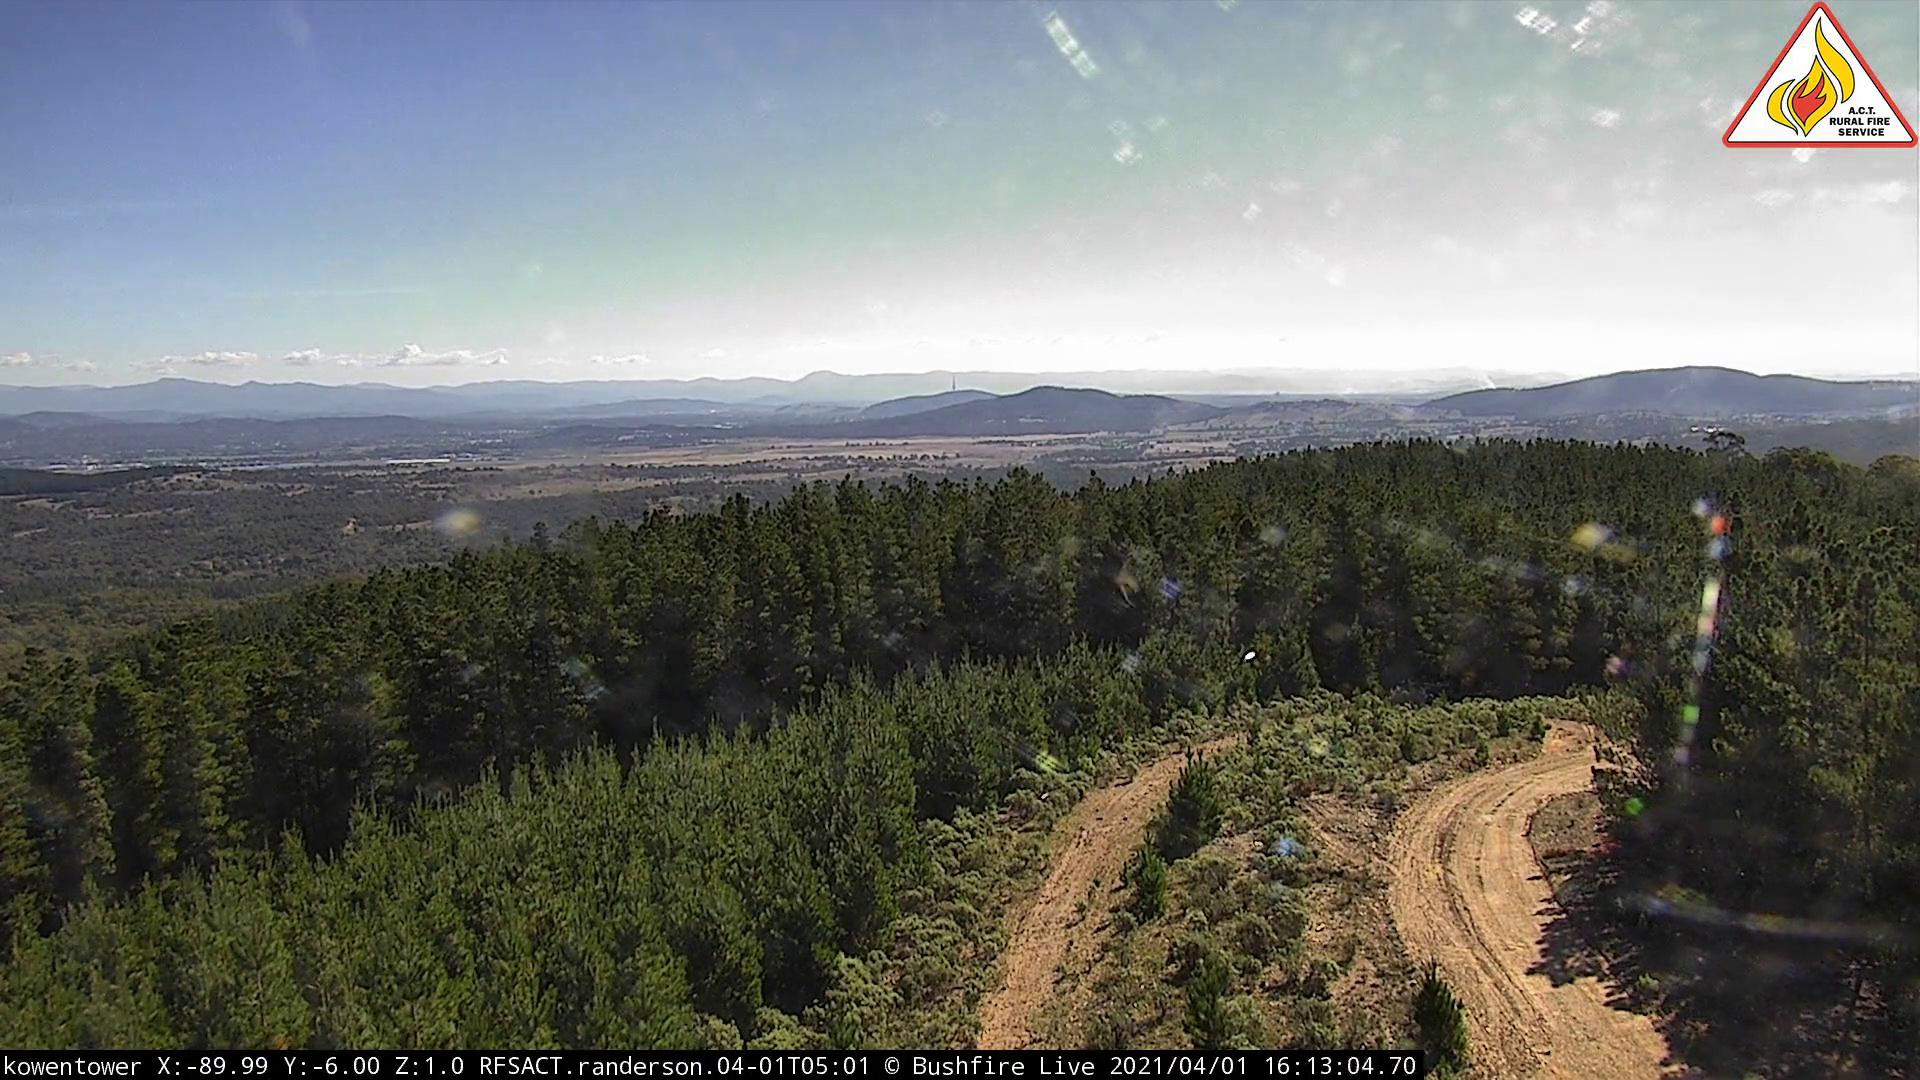Smoke: (1466, 375, 1503, 393)
